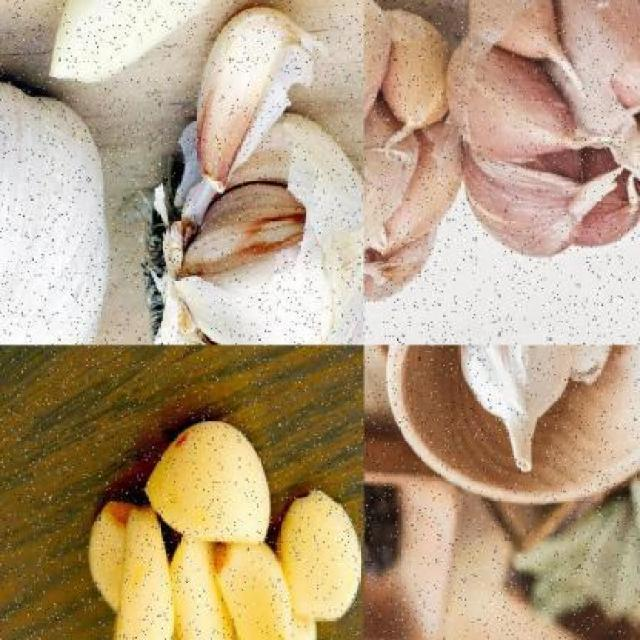garlic: (84, 403, 364, 640), (143, 114, 363, 343), (459, 0, 639, 257), (363, 0, 466, 312), (0, 59, 111, 344), (187, 0, 321, 189), (140, 420, 278, 552), (456, 344, 575, 476), (43, 0, 217, 82), (277, 488, 364, 628)
